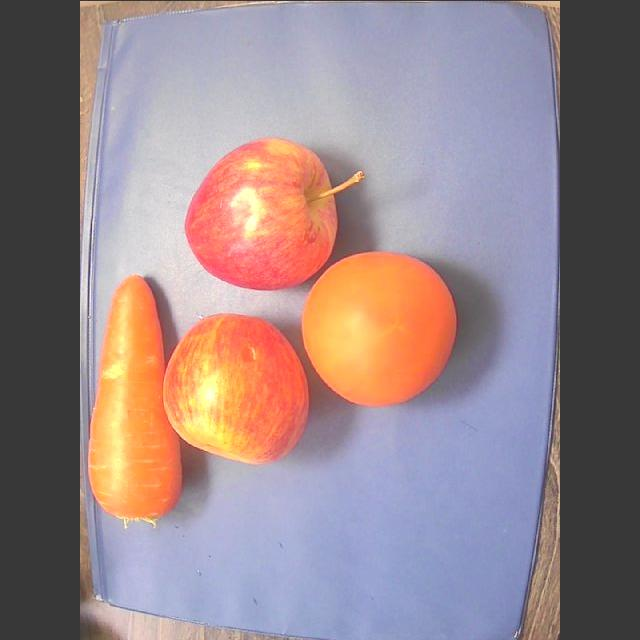manzana: (185, 137, 363, 289), (163, 313, 308, 463)
tomate: (302, 251, 456, 405)
zanahoria: (88, 274, 180, 525)
